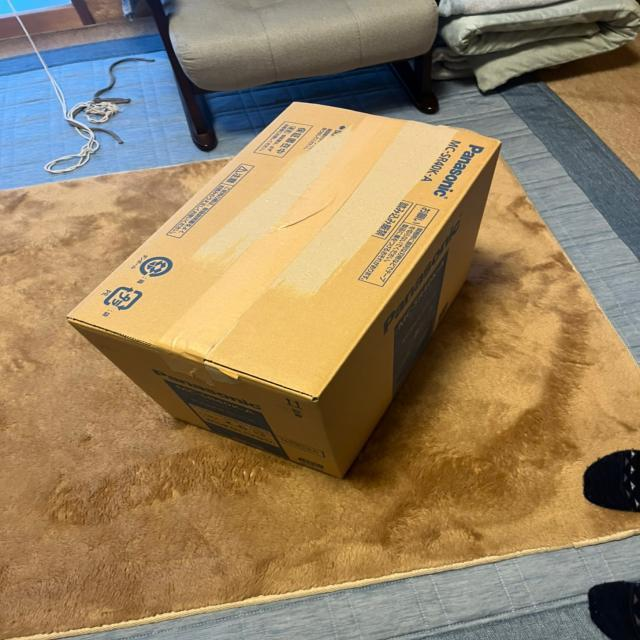box: (63, 100, 511, 482)
